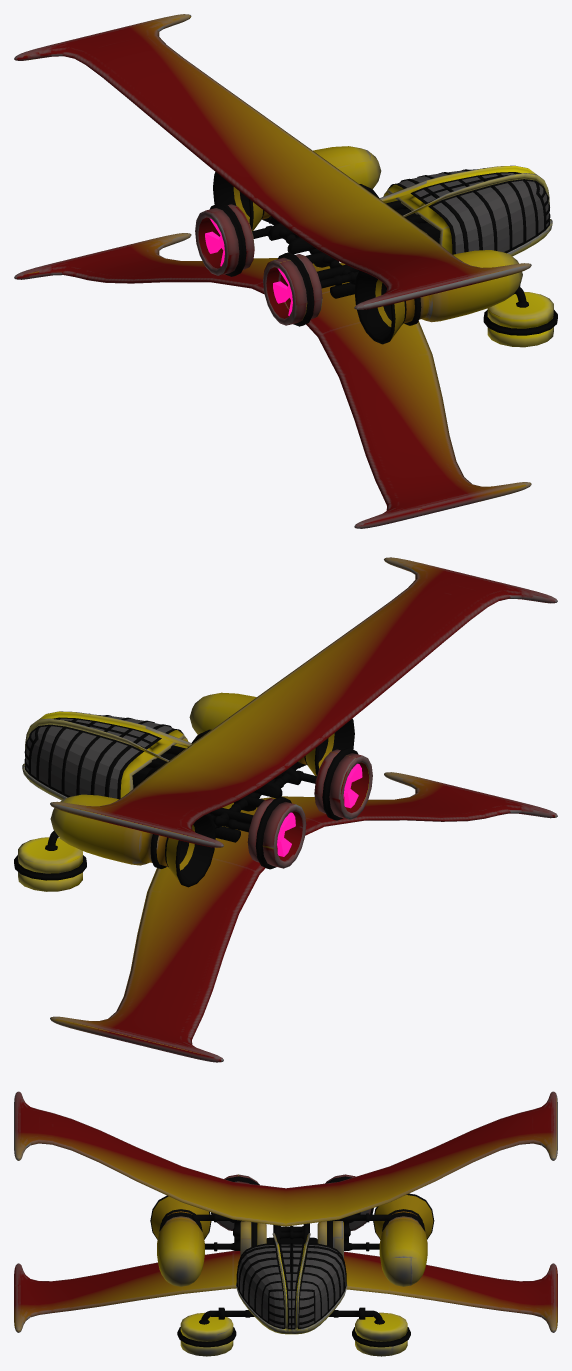
The model's file is RedMambaSpaceShip.fbx.
3 renders of one model, top to bottom at view 1: azimuth 30°, elevation 25°; view 2: azimuth 150°, elevation 25°; view 3: azimuth 270°, elevation 25°, orthographic. The views are drawn at different scales.
Visible parts, largest first — view 1: ShipBase, RearFanThrusterLeft, RearFanThrusterRight, FrontBottomThrusterRight; view 2: ShipBase, FrontBottomThrusterLeft, RearFanThrusterLeft, RearFanThrusterRight; view 3: ShipBase, FrontBottomThrusterLeft, FrontBottomThrusterRight, RearFanThrusterRight, RearFanThrusterLeft.
Boxes of the visible parts, <box> form: ShipBase: <box>14,14,552,528</box>; RearFanThrusterLeft: <box>195,202,254,276</box>; RearFanThrusterRight: <box>263,252,322,326</box>; FrontBottomThrusterRight: <box>483,292,557,347</box>; ShipBase: <box>22,557,557,1062</box>; FrontBottomThrusterLeft: <box>14,837,86,891</box>; RearFanThrusterLeft: <box>247,796,306,869</box>; RearFanThrusterRight: <box>314,748,372,820</box>; ShipBase: <box>14,1091,557,1334</box>; FrontBottomThrusterLeft: <box>352,1312,410,1356</box>; FrontBottomThrusterRight: <box>177,1312,236,1356</box>; RearFanThrusterRight: <box>211,1174,259,1230</box>; RearFanThrusterLeft: <box>325,1174,373,1230</box>.
Bounding box in the file's own units: 2536 × 1504 × 4136.
Materials: 5 (1 with a texture image).
